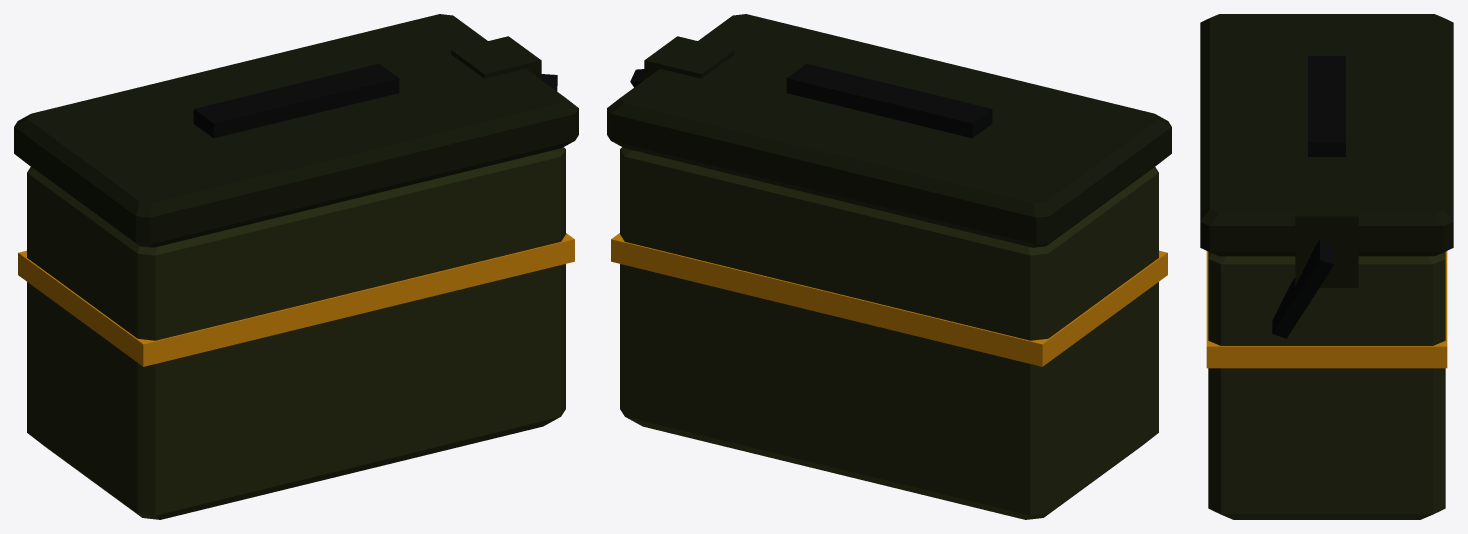
File: SM_Prop_AmmoCan_Military.glb
3 renders of one model, left to right at view 1: azimuth 30°, elevation 25°; view 2: azimuth 150°, elevation 25°; view 3: azimuth 270°, elevation 25°, orthographic. The views are drawn at different scales.
Visible parts, largest first — view 1: SM_Prop_AmmoCan_Military; view 2: SM_Prop_AmmoCan_Military; view 3: SM_Prop_AmmoCan_Military.
Part boxes in pixels (<box>): SM_Prop_AmmoCan_Military: <box>14,14,578,519</box>; SM_Prop_AmmoCan_Military: <box>607,14,1171,519</box>; SM_Prop_AmmoCan_Military: <box>1200,14,1453,519</box>.
Size of the model in its own units: 0.3352 by 0.227 by 0.16.
Materials: 1 (1 with a texture image).
